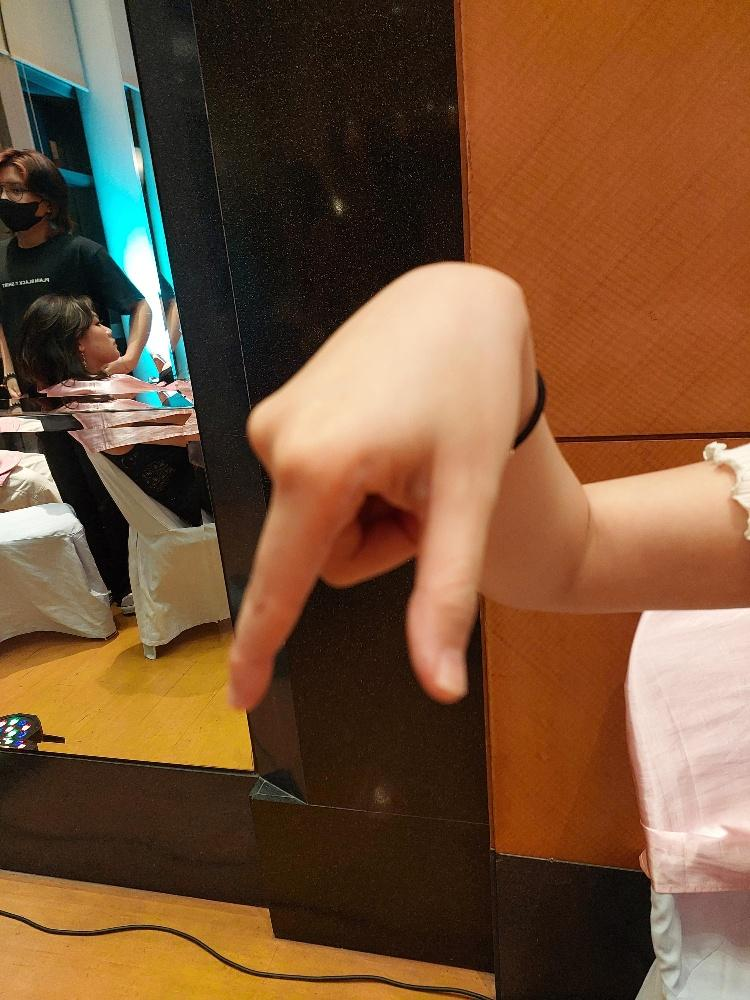q: (221, 258, 525, 713)
